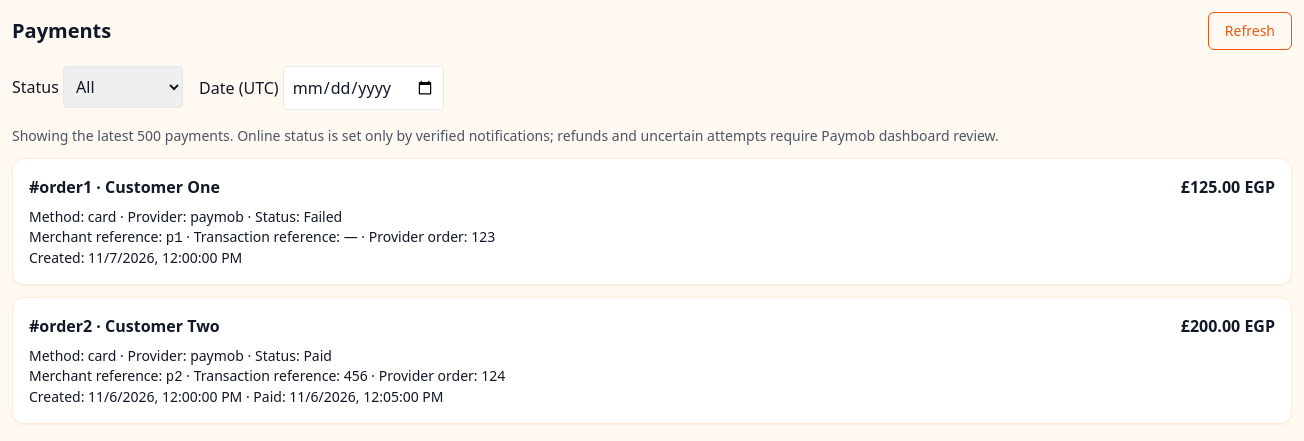
Test: shows payment details and filters by status and date without payment mutation controls
Check: the text "#order1 · Customer One" is shown, box [29,175,220,199]
Check: the text "#order2 · Customer Two" is shown, box [29,314,220,338]
Select "Failed" in the dropdown labelled "Status": (123, 87) [63,66,183,108]
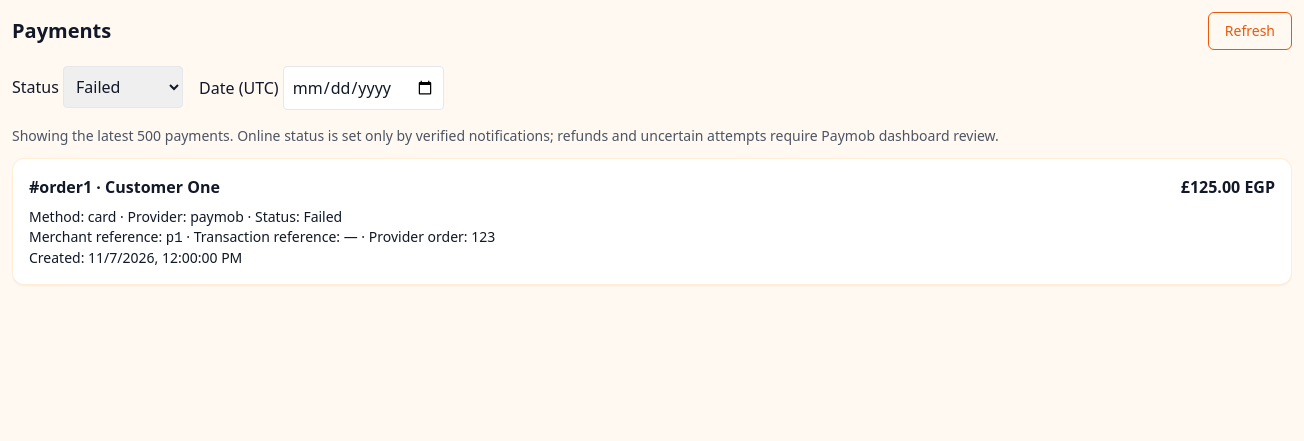
Check: the text "#order1 · Customer One" is shown, box [29,175,220,199]
Check: the text "Customer Two" is gone
In the date field labelled "Date (UTC)": (363, 88) [283,66,444,110], type "2026-11-06"
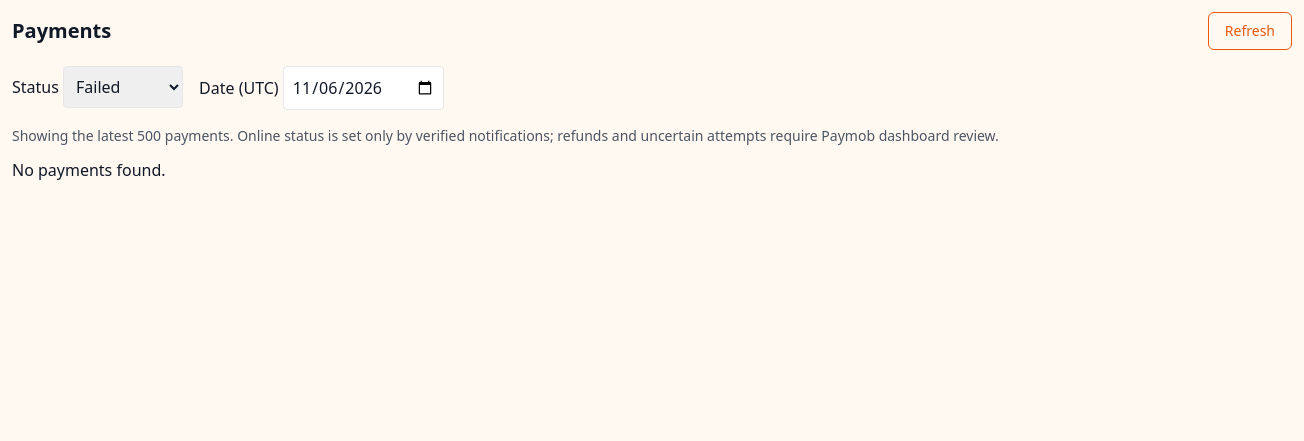
Check: the text "Customer One" is gone
